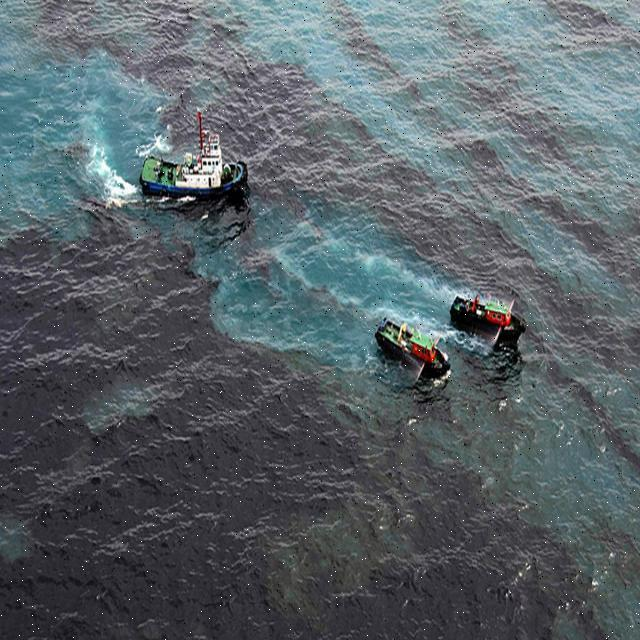oil: (1, 27, 636, 640)
